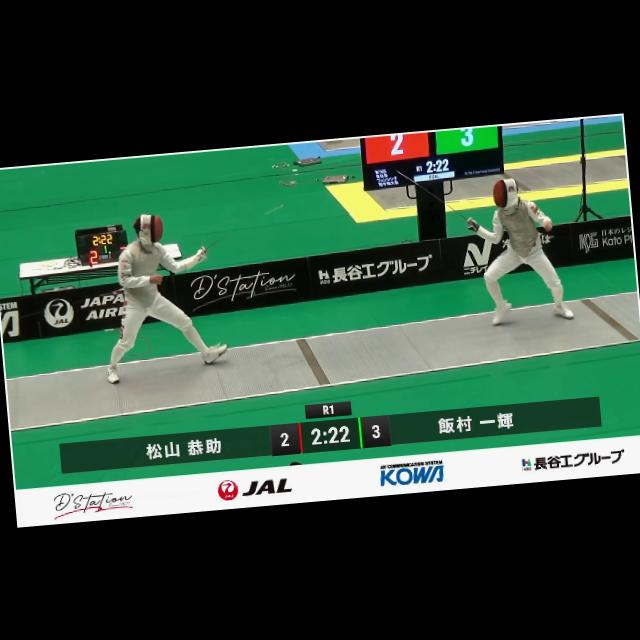blade: (392, 160, 482, 237), (190, 201, 292, 258)
